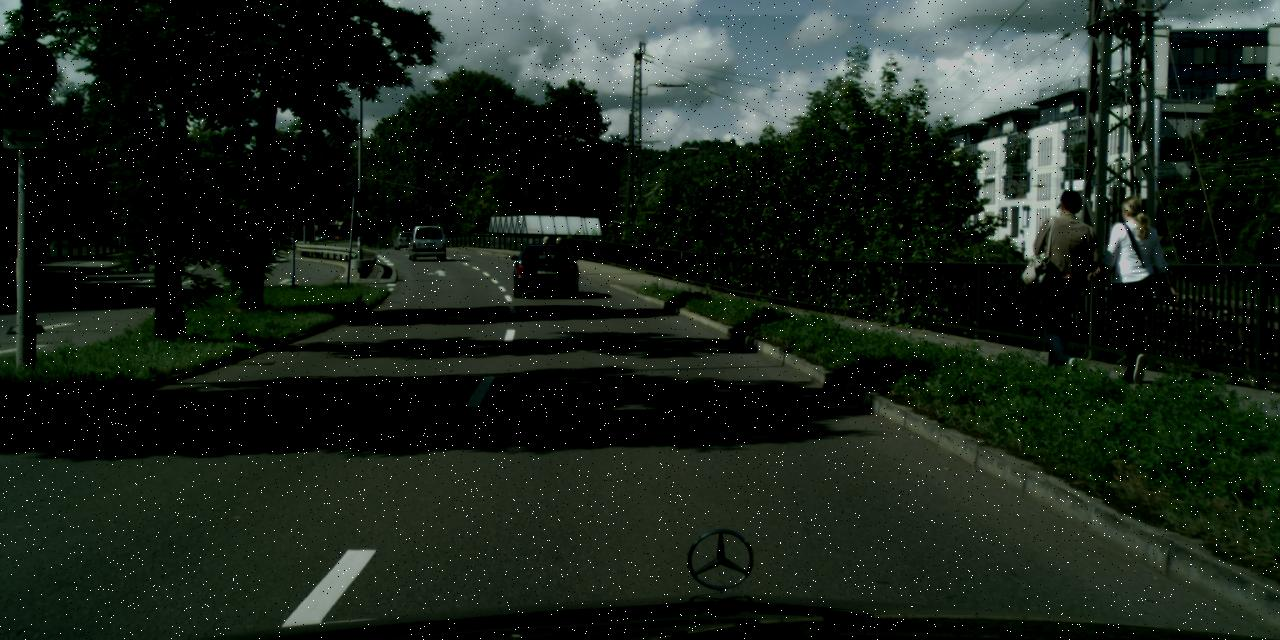ped: (1029, 190, 1104, 376), (1096, 195, 1171, 377)
